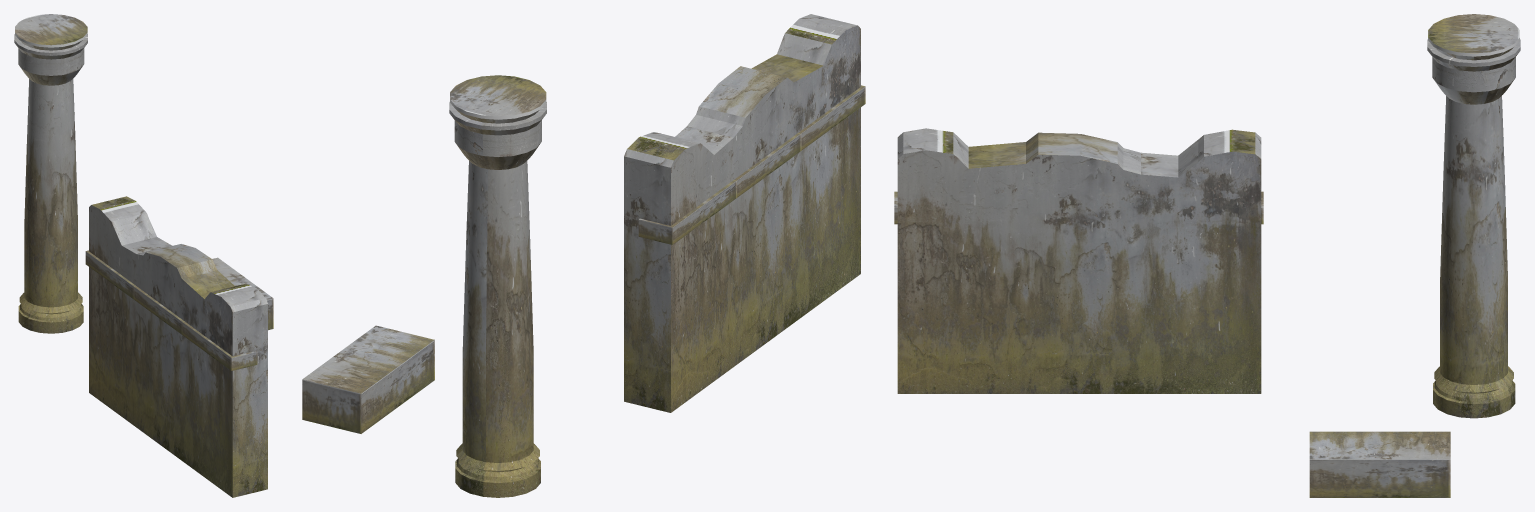
The model's file is Set.FBX.
3 renders of one model, left to right at view 1: azimuth 30°, elevation 25°; view 2: azimuth 150°, elevation 25°; view 3: azimuth 270°, elevation 25°, orthographic. The views are drawn at different scales.
Visible parts, largest first — view 1: Wall, Column, Brick; view 2: Wall, Column, Brick; view 3: Wall, Column, Brick.
Boxes of the visible parts, x1,y1,x2,y2 form: Wall: (85,196,267,497); Column: (14,14,87,333); Brick: (212,257,273,330); Wall: (624,14,865,412); Column: (449,75,546,497); Brick: (302,325,434,433); Wall: (894,128,1263,393); Column: (1427,14,1520,418); Brick: (1309,431,1450,497).
Size of the model in its own units: 180 by 241 by 373.
